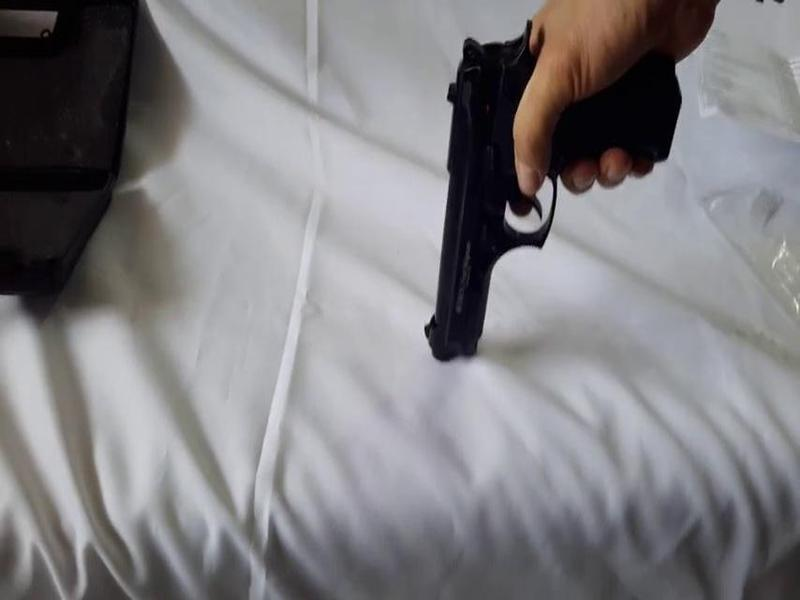Pistola: (408, 25, 706, 380)
